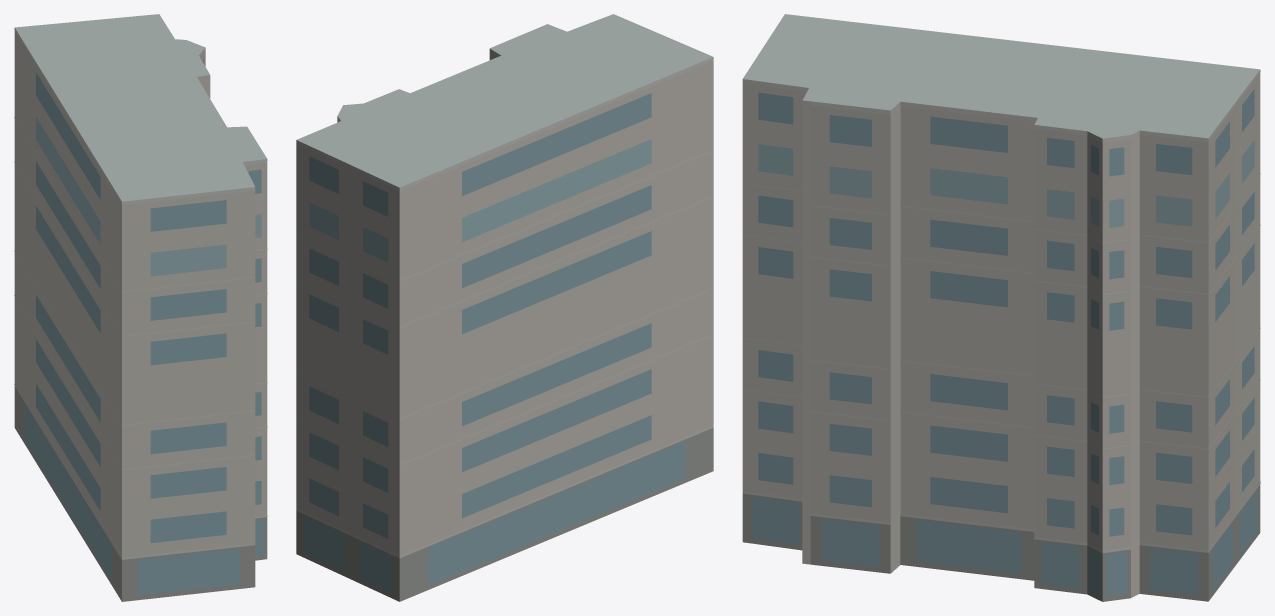
Rendered from survey-upis-32687884.glb.
The picture shows the model from 3 angles, left to right: view 1: azimuth 30°, elevation 25°; view 2: azimuth 150°, elevation 25°; view 3: azimuth 270°, elevation 25°; orthographic projection. The views are drawn at different scales.
Parts seen in each view (by area): view 1: survey-upis-32687884.tmp; view 2: survey-upis-32687884.tmp; view 3: survey-upis-32687884.tmp.
Part boxes in pixels (x1,y1,x2,y2): survey-upis-32687884.tmp: (14, 14, 267, 601); survey-upis-32687884.tmp: (296, 14, 713, 601); survey-upis-32687884.tmp: (742, 14, 1260, 601).
Size of the model in its own units: 15.86 by 27.45 by 27.83.
